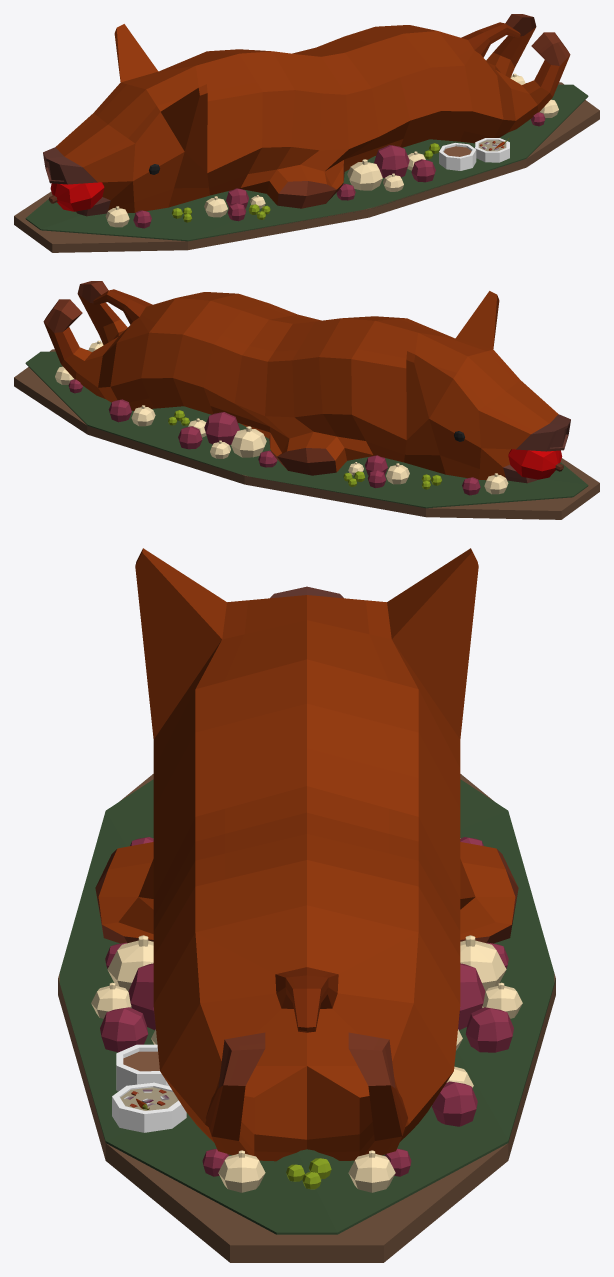
Rendered from FINAL_Lechon Cebu.fbx.
The picture shows the model from 3 angles, top to bottom: view 1: azimuth 30°, elevation 25°; view 2: azimuth 150°, elevation 25°; view 3: azimuth 270°, elevation 25°; orthographic projection. The views are drawn at different scales.
Visible parts, largest first — view 1: Lechon Cebu; view 2: Lechon Cebu; view 3: Lechon Cebu.
Part boxes in pixels (bbox=[...]): Lechon Cebu: bbox=[14, 14, 599, 252]; Lechon Cebu: bbox=[14, 281, 599, 519]; Lechon Cebu: bbox=[58, 548, 555, 1262].
Bounding box in the file's own units: 306 × 81.44 × 120.
